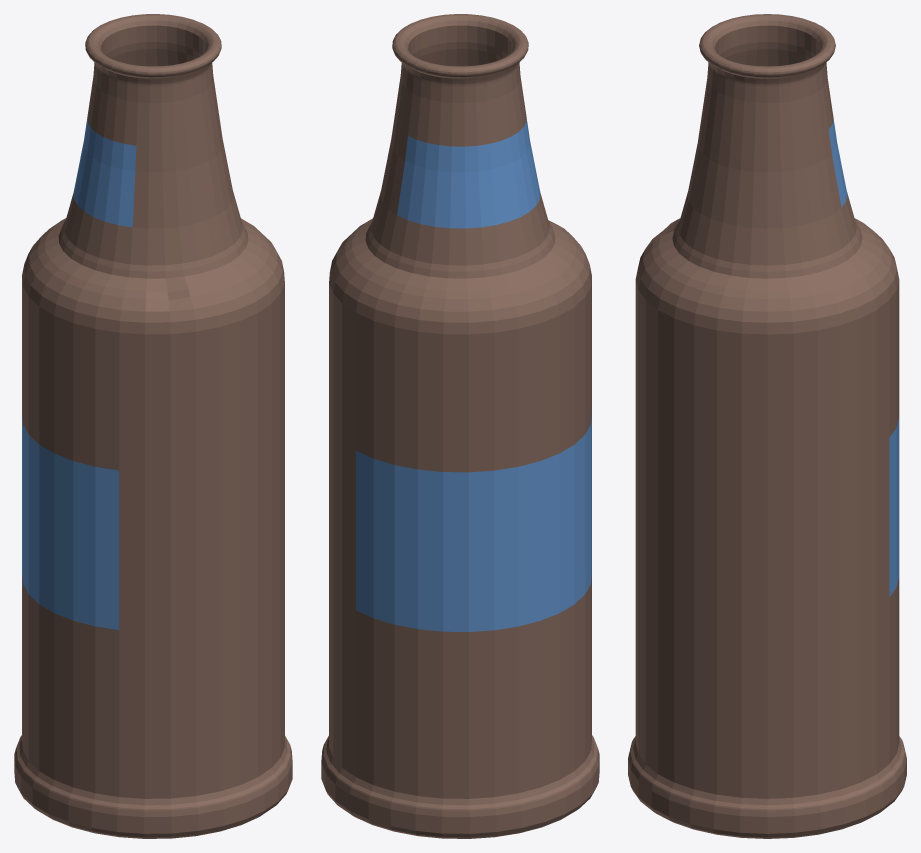
Rendered from Bottle.fbx.
The picture shows the model from 3 angles, left to right: view 1: azimuth 30°, elevation 25°; view 2: azimuth 150°, elevation 25°; view 3: azimuth 270°, elevation 25°; orthographic projection.
Parts seen in each view (by area): view 1: Cylinder; view 2: Cylinder; view 3: Cylinder.
Boxes of the visible parts, x1,y1,x2,y2 form: Cylinder: (14,14,292,838); Cylinder: (321,14,599,838); Cylinder: (628,14,906,838).
Bounding box in the file's own units: 35.09 × 103 × 35.09.
